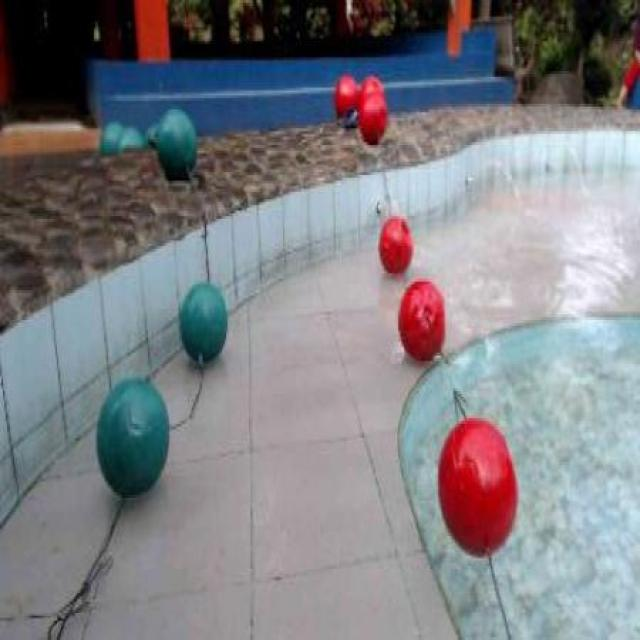buoy: (436, 414, 518, 560), (96, 376, 170, 494), (397, 276, 446, 364), (178, 280, 228, 360), (156, 105, 196, 174), (378, 216, 413, 276), (358, 87, 387, 143)
